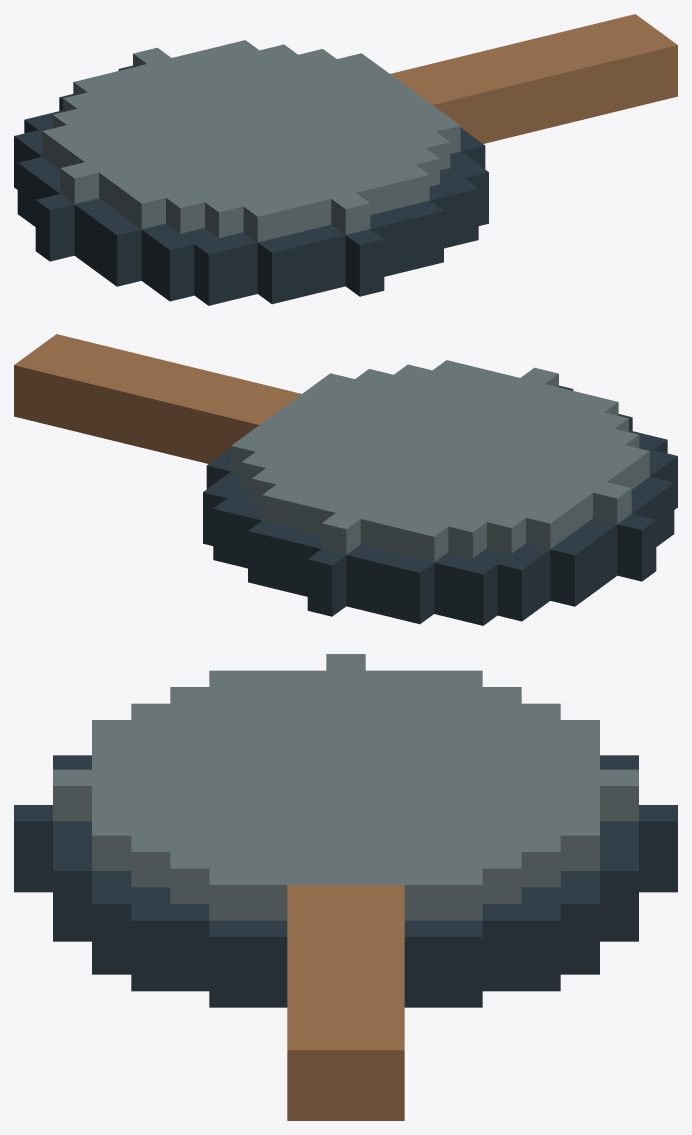
The model's file is food-09.glb.
The picture shows the model from 3 angles, top to bottom: view 1: azimuth 30°, elevation 25°; view 2: azimuth 150°, elevation 25°; view 3: azimuth 270°, elevation 25°; orthographic projection. The views are drawn at different scales.
Parts seen in each view (by area): view 1: Frying pan; view 2: Frying pan; view 3: Frying pan.
Part boxes in pixels (left/top/right/bottom): Frying pan: left=14, top=14, right=677, bottom=305; Frying pan: left=14, top=334, right=677, bottom=625; Frying pan: left=14, top=654, right=677, bottom=1120.
Size of the model in its own units: 2 by 0.24 by 1.36.
